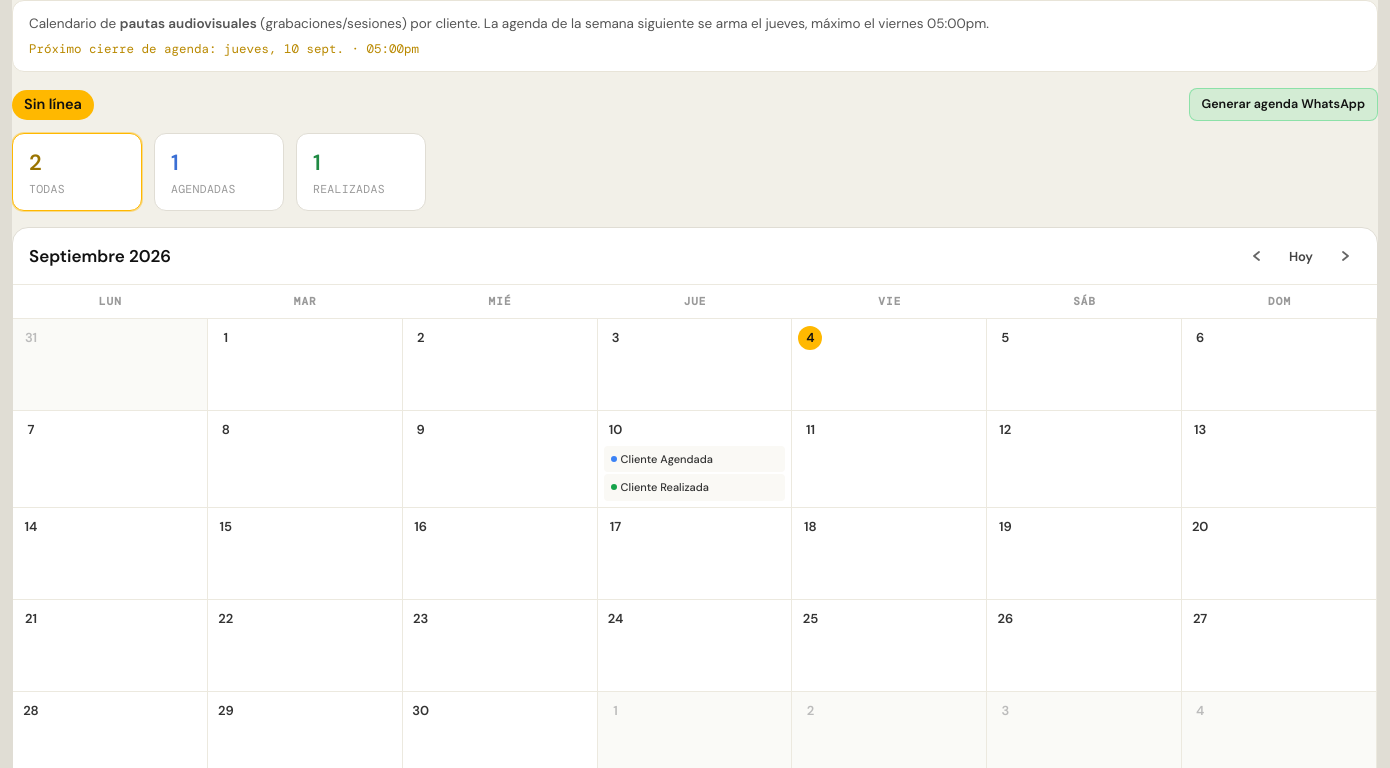
Test case: AudiovisualView — SummaryCard (Todas/Agendadas/Realizadas) filtra SOLO el calendario › click en "Realizadas" filtra el calendario a solo realizadas
The image size is (1390, 768).
Expected: the button titled "Cliente Agendada" is shown, [604, 446, 786, 472]
Click the button "1 Realizadas" at (361, 172), box [296, 133, 426, 211]
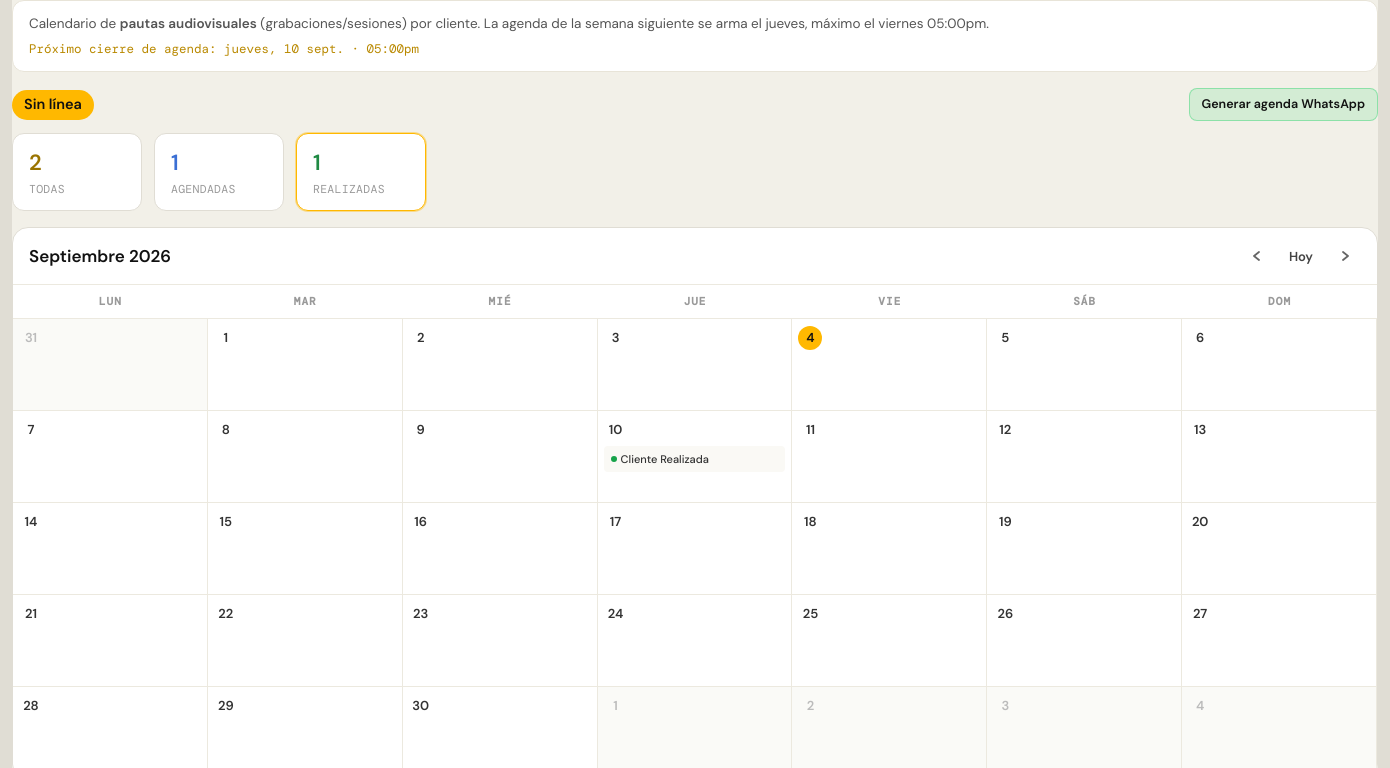
Expected: the button titled "Cliente Realizada" is shown, [604, 446, 786, 472]
Result: the button titled "Cliente Agendada" is gone
